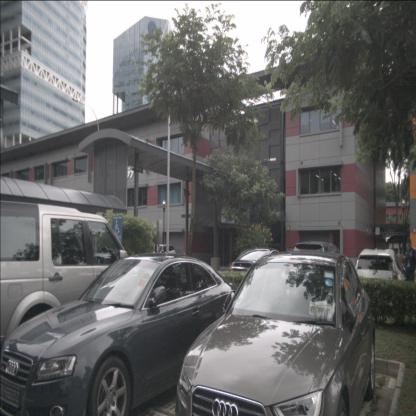human-pedestrian-adult: (402, 238, 416, 305), (222, 235, 227, 259)
vehicle-car: (0, 256, 241, 415), (175, 252, 375, 416), (0, 201, 151, 389), (292, 241, 350, 297), (355, 248, 407, 303), (230, 247, 286, 292), (153, 244, 176, 261)
